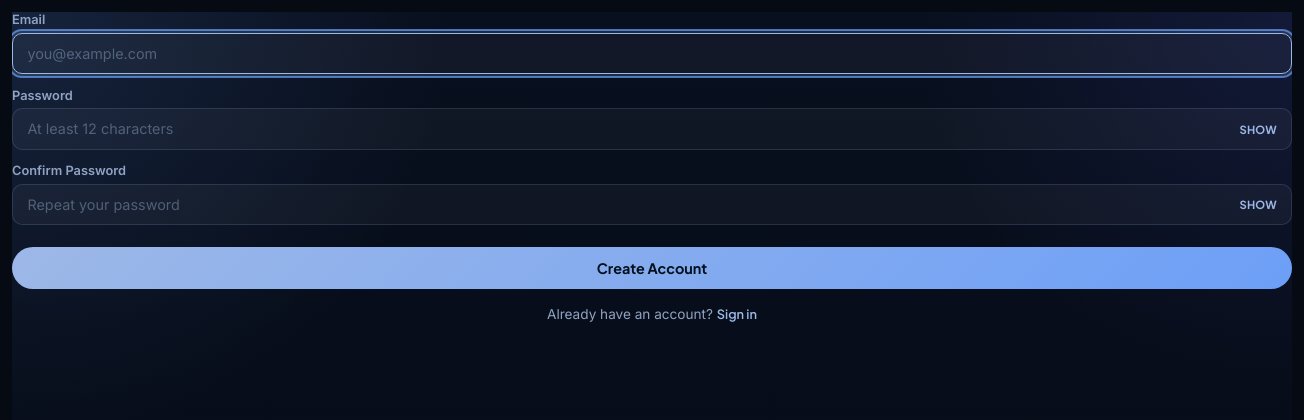
Scenario: auth forms render translated errors, never the raw message › RegisterForm: sign-ups disabled
This screenshot has width=1304, height=420.
Type "a@b.co" into the field labelled "Email" at {"x": 652, "y": 53}, box [12,33,1292,74]
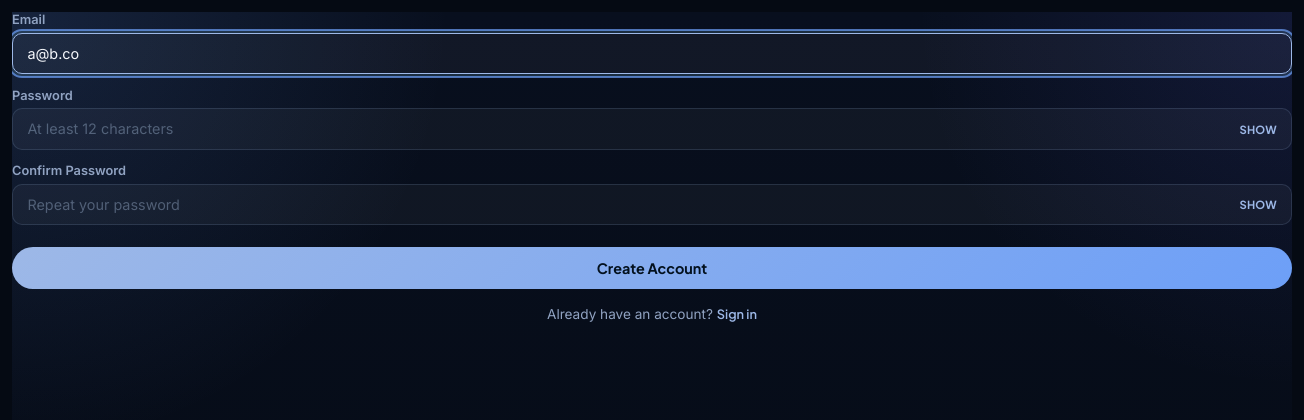
Type "N3w!Password-ok" into the password field labelled "Password Show" at {"x": 652, "y": 129}, box [12,108,1292,150]
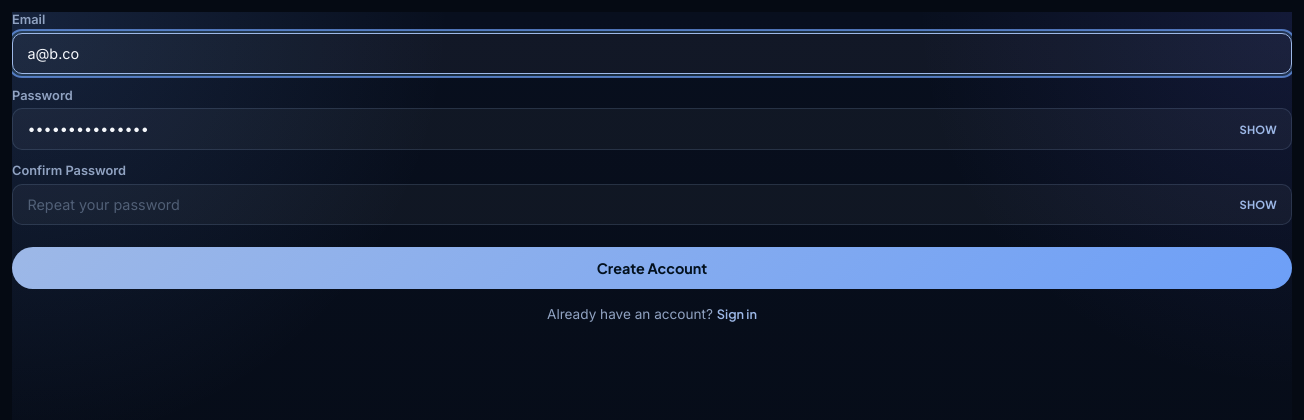
Type "N3w!Password-ok" into the password field labelled "Confirm Password Show" at {"x": 652, "y": 204}, box [12,184,1292,225]
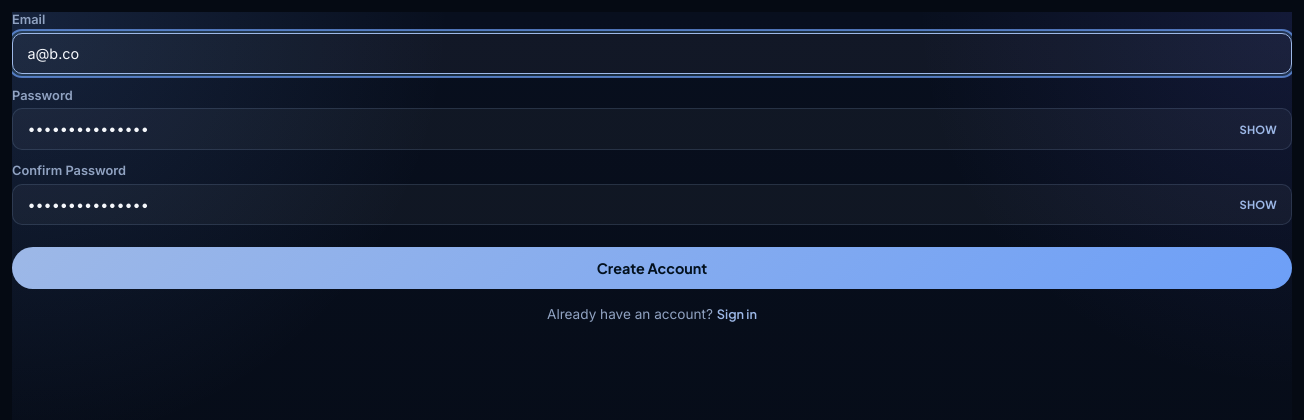
Click the button "Create Account" at {"x": 652, "y": 268}, box [12,247,1292,289]
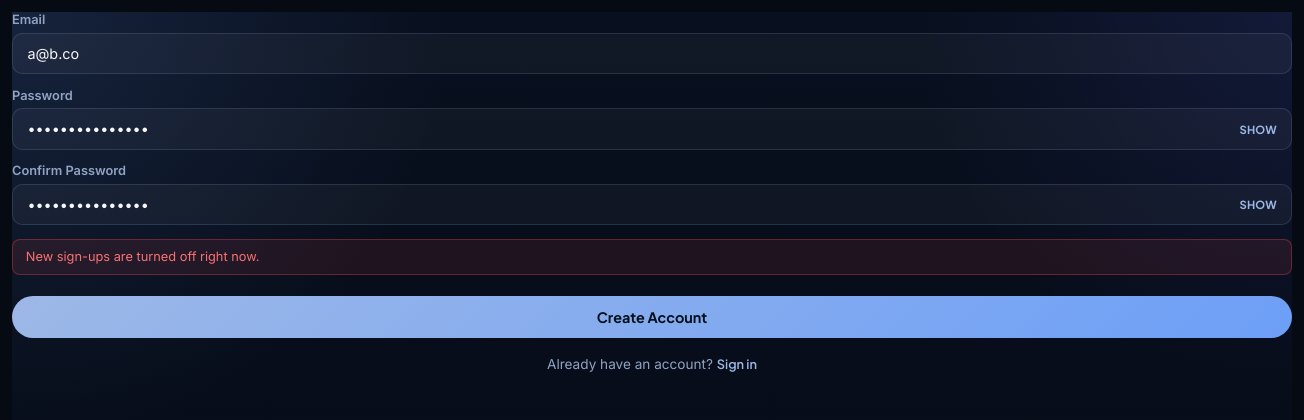
Check: the message reads "New sign-ups are turned off right now.", box [26,249,259,264]
